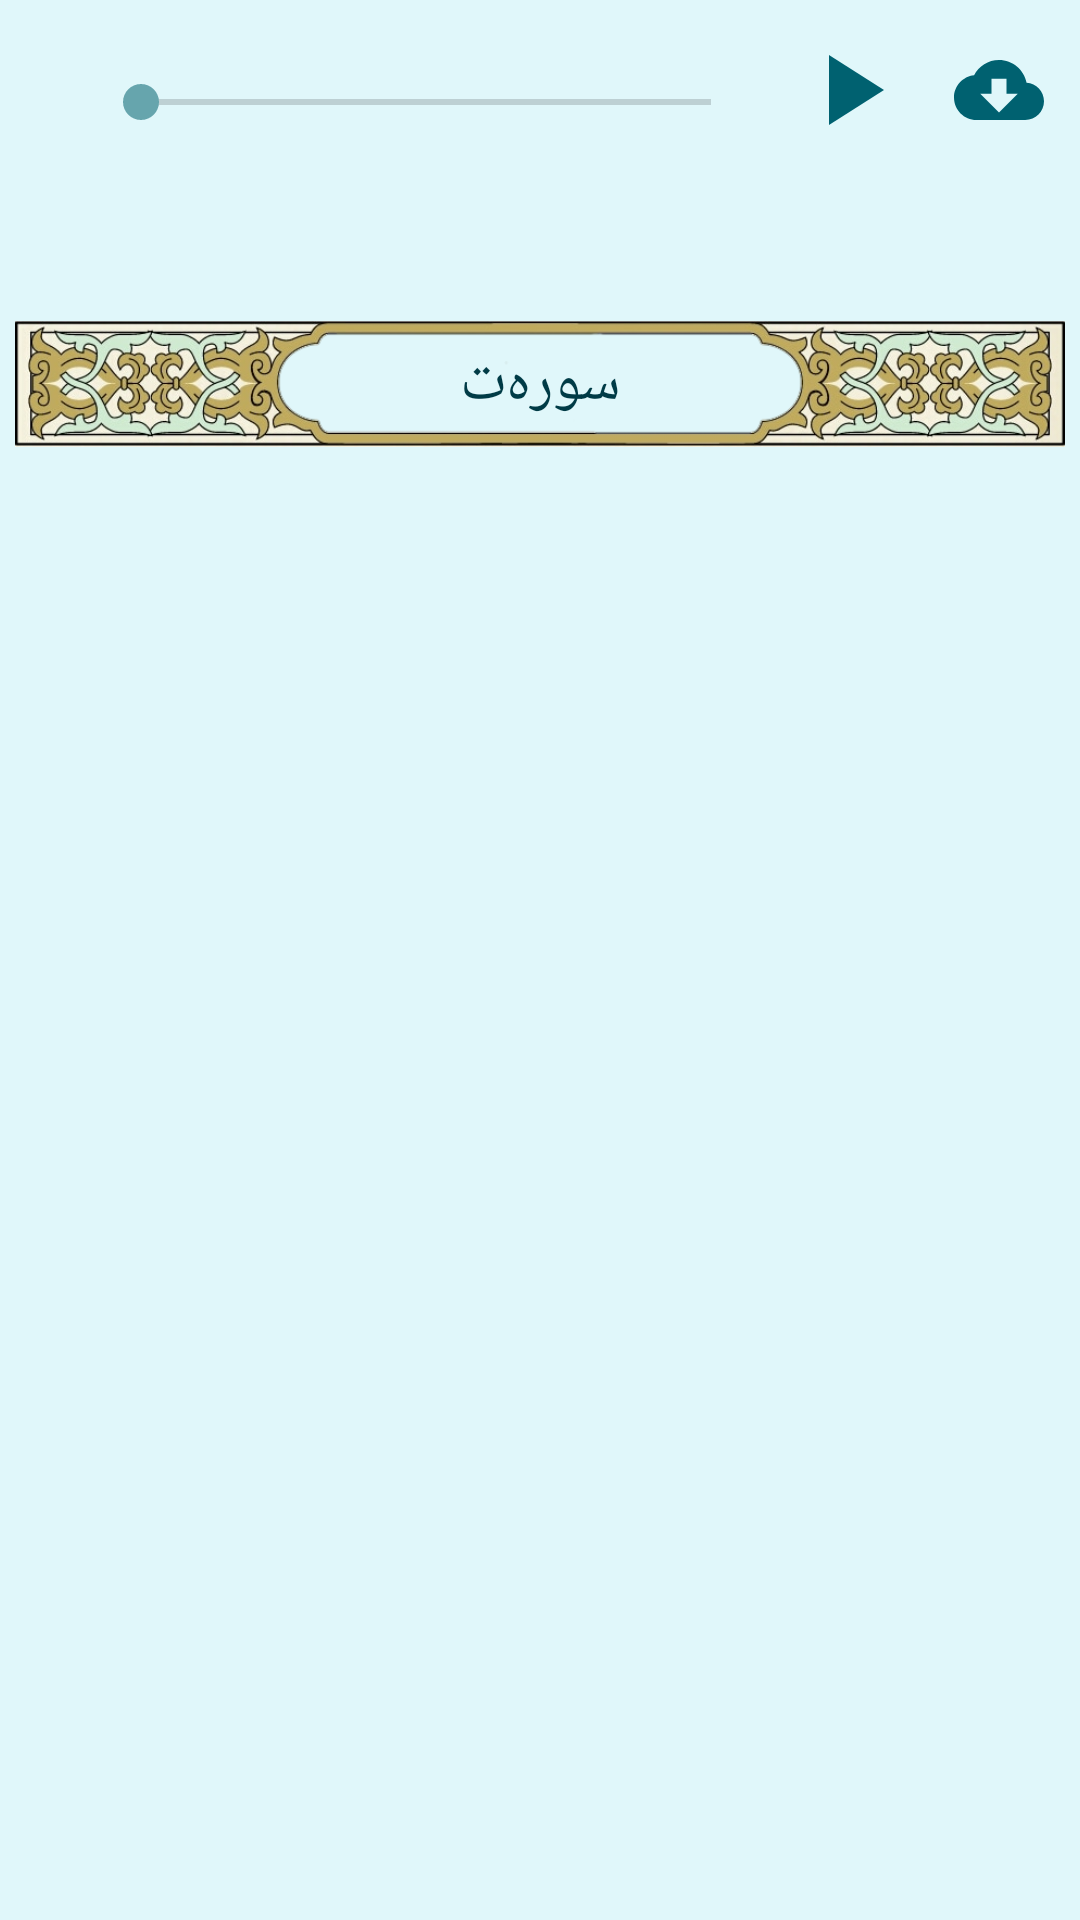

Icons on this 1080px x 1920px Android screen, each with its box as (x1, y1, x2, y2):
download: (954, 60, 1044, 120)
play: (829, 55, 884, 125)
